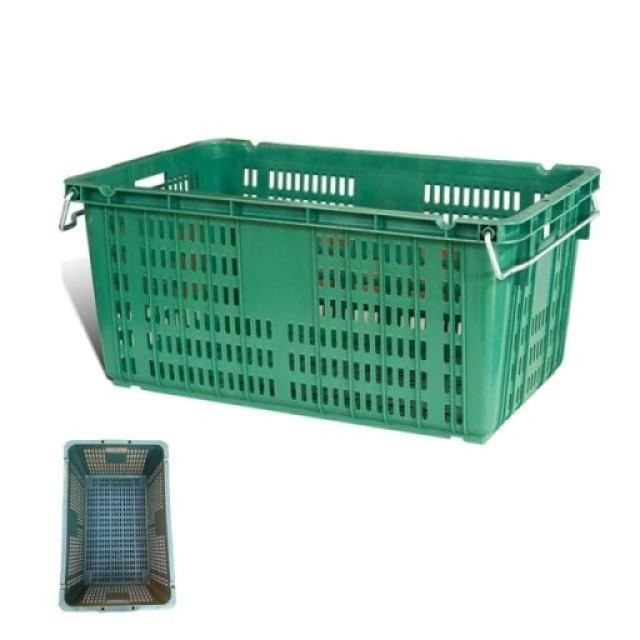basket: (47, 127, 601, 449), (59, 442, 174, 611)
